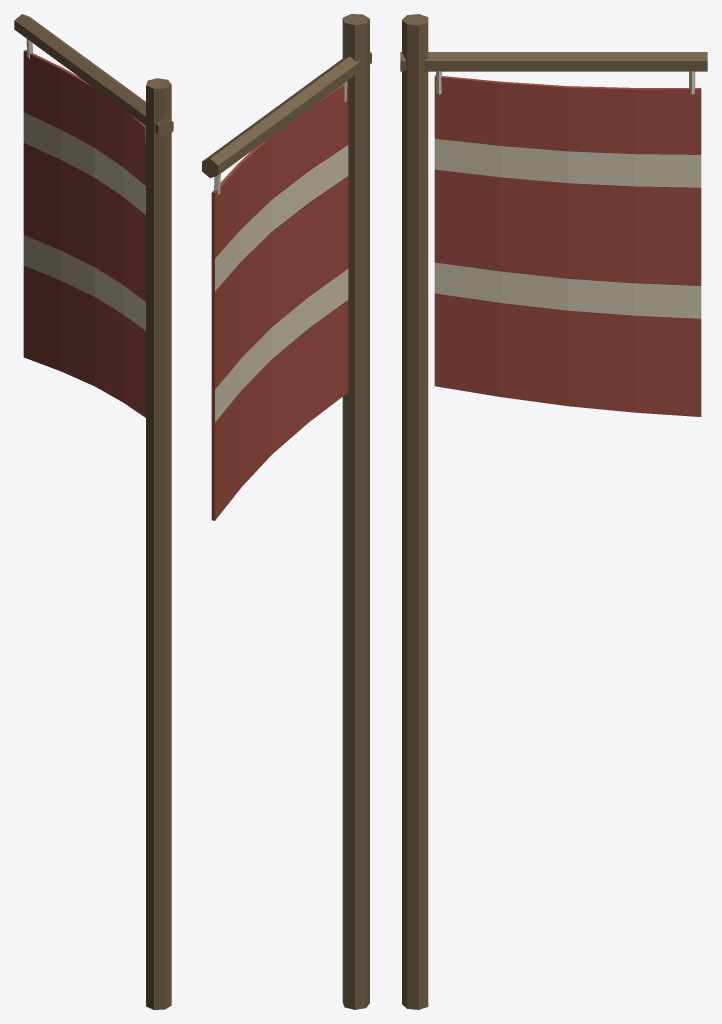
File: commander_standard.glb
3 views of the same model, side by side, from view 1: azimuth 30°, elevation 25°; view 2: azimuth 150°, elevation 25°; view 3: azimuth 270°, elevation 25° (orthographic). The views are drawn at different scales.
Visible parts, largest first — view 1: commander_standard_team_cloth, commander_standard_oak_dark; view 2: commander_standard_team_cloth, commander_standard_oak_dark; view 3: commander_standard_team_cloth, commander_standard_oak_dark.
Part boxes in pixels (bbox=[...]): commander_standard_team_cloth: bbox=[23, 50, 145, 417]; commander_standard_oak_dark: bbox=[14, 14, 173, 1009]; commander_standard_team_cloth: bbox=[211, 83, 348, 520]; commander_standard_oak_dark: bbox=[202, 14, 371, 1009]; commander_standard_team_cloth: bbox=[434, 75, 701, 416]; commander_standard_oak_dark: bbox=[400, 14, 707, 1009].
Size of the model in its own units: 0.0877 by 3.5 by 0.99.
